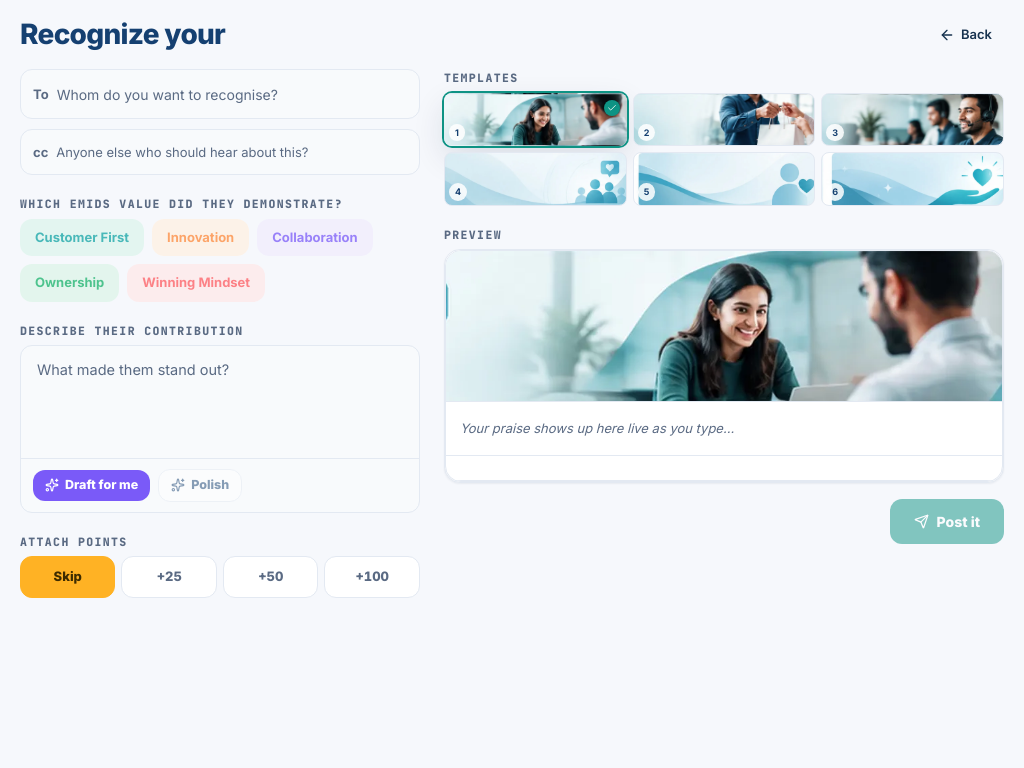
Test case: ComposeForm extras (client interactions) › the typed-email row adds a To chip that can be removed again
The image size is (1024, 768).
Type "guest@outside.dev" into the field with placeholder "Whom do you want to recognise?" at (232, 94), box [57, 78, 407, 110]
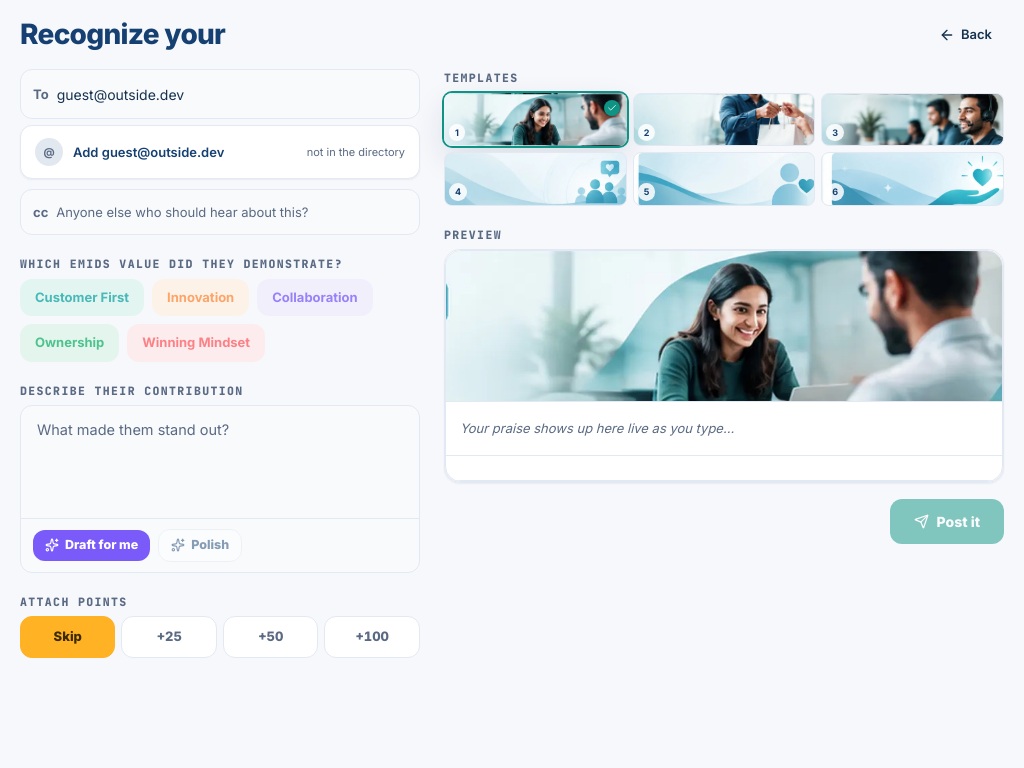
Click the text "Add guest@outside.dev" at (149, 152), box [73, 143, 224, 162]
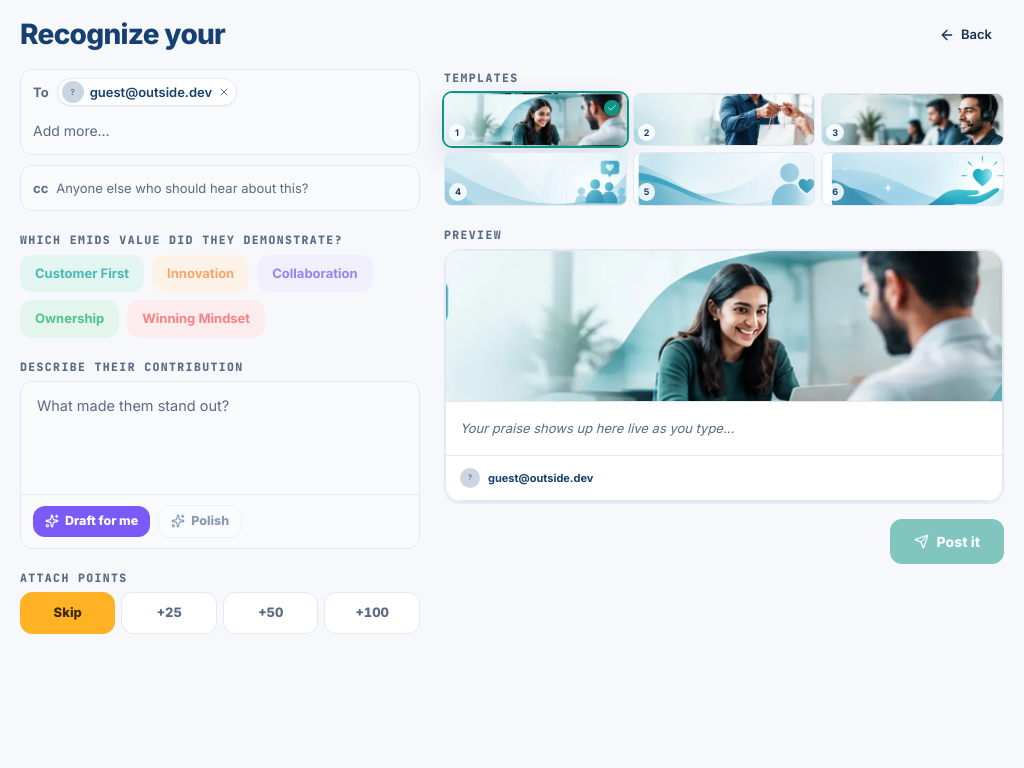
Result: the button named "Remove guest@outside.dev from To" is shown
Click the button named "Remove guest@outside.dev from To" at (224, 92), box [218, 86, 230, 98]
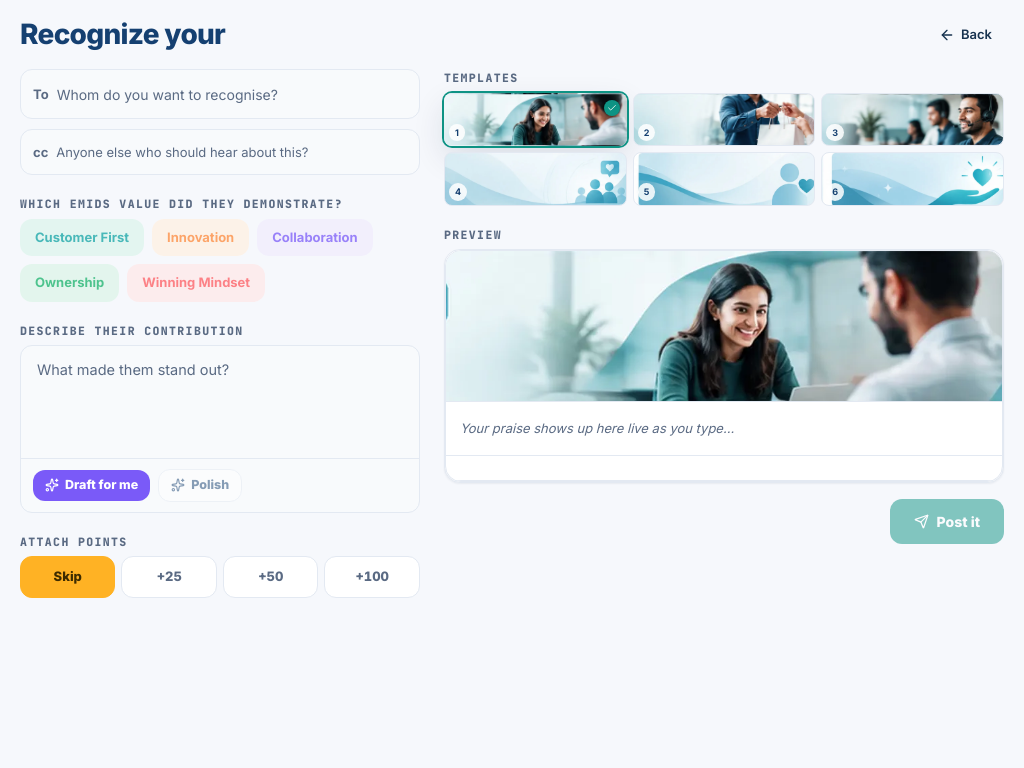
Result: the text "guest@outside.dev" is gone
